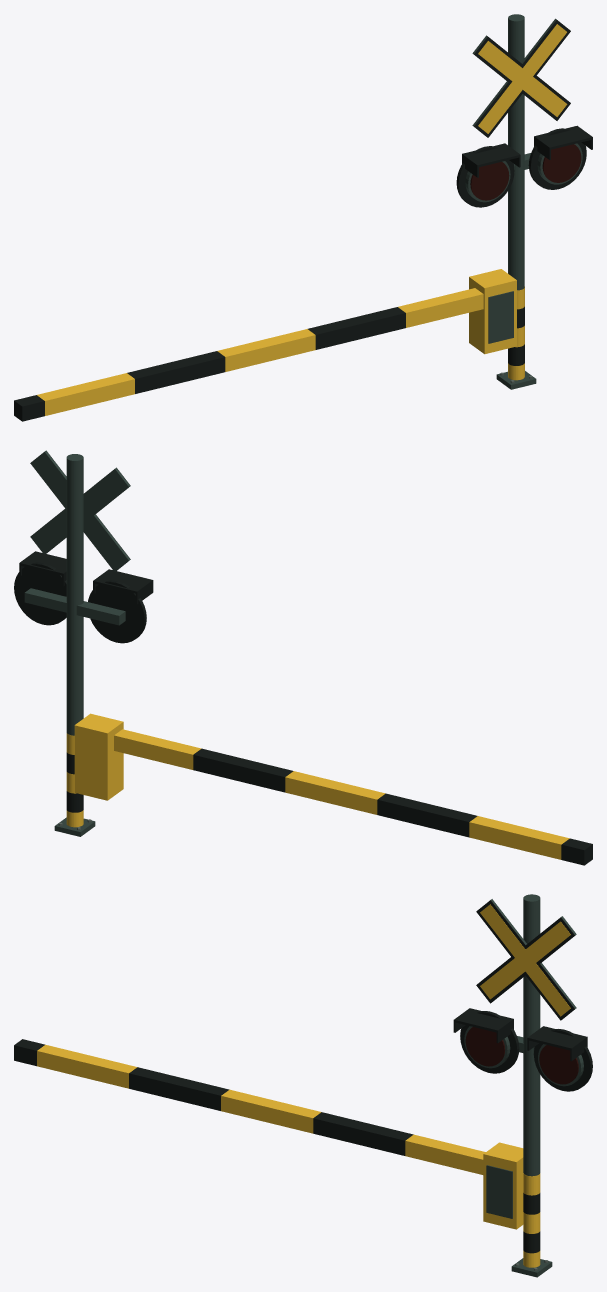
The model's file is rail-crossing-signal-01.glb.
3 renders of one model, top to bottom at view 1: azimuth 30°, elevation 25°; view 2: azimuth 150°, elevation 25°; view 3: azimuth 330°, elevation 25°, orthographic. The views are drawn at different scales.
Parts seen in each view (by area): view 1: arm, Pole, BarrierHousing, CrossbuckYellowFace, CrossbuckYellowFace.001, BarrierServicePanel, lamp_left, lamp_right, CrossbuckBlackBorder, lamp_left_backboard, lamp_right_backboard, CrossbuckBlackBorder.001 (+2 smaller); view 2: arm, Pole, BarrierHousing, CrossbuckBack, lamp_left_backboard, CrossbuckBack.001, lamp_right_backboard, WarningHeadSupport, lamp_left_hood, lamp_right_hood; view 3: arm, Pole, BarrierHousing, CrossbuckYellowFace, CrossbuckYellowFace.001, BarrierServicePanel, lamp_right, lamp_left, lamp_right_backboard, lamp_left_backboard, CrossbuckBlackBorder.001, CrossbuckBlackBorder (+2 smaller).
Part boxes in pixels (x1=…): arm: x1=14, y1=288, x2=483, y2=421; Pole: x1=508, y1=14, x2=524, y2=290; BarrierHousing: x1=469, y1=269, x2=516, y2=354; CrossbuckYellowFace: x1=478, y1=24, x2=566, y2=133; CrossbuckYellowFace.001: x1=478, y1=41, x2=567, y2=116; BarrierServicePanel: x1=488, y1=291, x2=513, y2=343; lamp_left: x1=470, y1=162, x2=509, y2=200; lamp_right: x1=542, y1=144, x2=581, y2=182; CrossbuckBlackBorder: x1=474, y1=20, x2=570, y2=137; lamp_left_backboard: x1=456, y1=146, x2=514, y2=207; lamp_right_backboard: x1=528, y1=128, x2=586, y2=189; CrossbuckBlackBorder.001: x1=474, y1=37, x2=570, y2=120; arm: x1=114, y1=729, x2=592, y2=865; Pole: x1=66, y1=454, x2=83, y2=735; BarrierHousing: x1=74, y1=713, x2=123, y2=800; CrossbuckBack: x1=30, y1=451, x2=130, y2=571; lamp_left_backboard: x1=88, y1=580, x2=146, y2=643; CrossbuckBack.001: x1=30, y1=467, x2=130, y2=554; lamp_right_backboard: x1=14, y1=562, x2=66, y2=625; WarningHeadSupport: x1=24, y1=588, x2=125, y2=625; lamp_left_hood: x1=93, y1=569, x2=153, y2=593; lamp_right_hood: x1=19, y1=551, x2=66, y2=575; arm: x1=14, y1=1039, x2=485, y2=1174; Pole: x1=523, y1=894, x2=540, y2=1176; BarrierHousing: x1=483, y1=1142, x2=523, y2=1229; CrossbuckYellowFace: x1=480, y1=921, x2=570, y2=999; CrossbuckYellowFace.001: x1=480, y1=904, x2=570, y2=1016; BarrierServicePanel: x1=486, y1=1165, x2=512, y2=1218; lamp_right: x1=539, y1=1045, x2=578, y2=1084; lamp_left: x1=465, y1=1027, x2=505, y2=1066; lamp_right_backboard: x1=533, y1=1029, x2=592, y2=1091; lamp_left_backboard: x1=460, y1=1011, x2=519, y2=1073; CrossbuckBlackBorder.001: x1=476, y1=900, x2=574, y2=1020; CrossbuckBlackBorder: x1=476, y1=917, x2=574, y2=1003.
Size of the model in its own units: 6.26 by 3.85 by 0.51.
